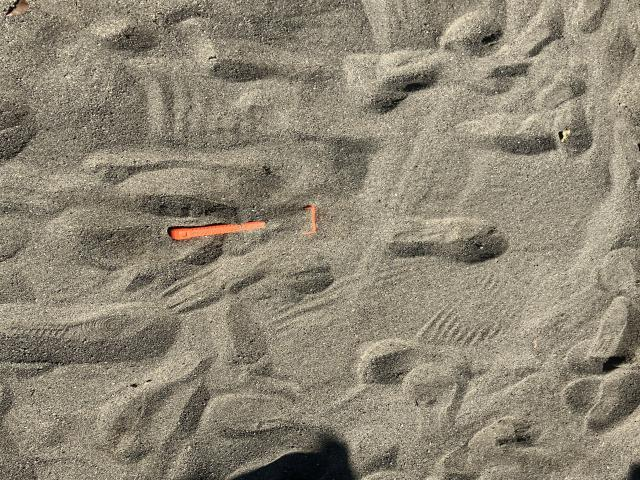hammer: (166, 206, 321, 240)
